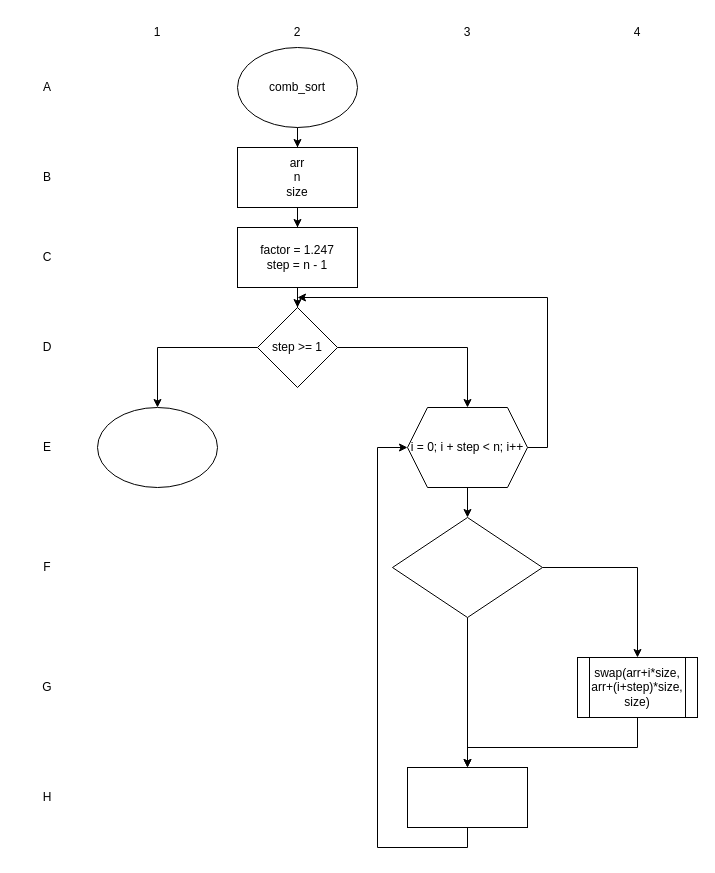
This 715x873 diagram has some shape labels left out. The box of each missing label's shape, as (x1, y1, x2, y2) in pixels:
comparatopr (arr+i*size, arr+(i+step)*size: (392, 516, 542, 618)
end: (96, 406, 218, 488)
step /= factor;: (406, 766, 528, 828)
